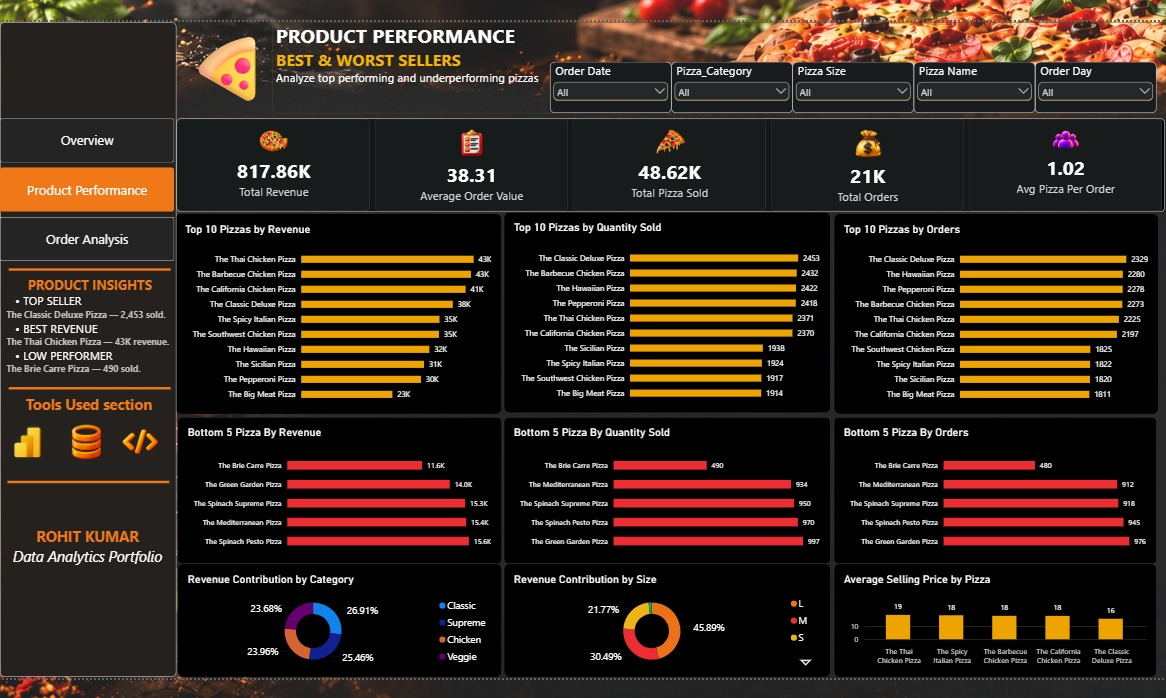

What the dashboard file says about the page in this screenshot:
{"tool":"powerbi","page":{"name":"Product Performance","canvas":[1920,1080],"ordinal":1},"visuals":[{"type":"cardVisual","fields":{"Data":["Sum(public pizza_data.total_price)","public pizza_data.Average Order Value","CountNonNull(public pizza_data.quantity)","public pizza_data.Total Orders","public pizza_data.Avg Pizza Per Order"]},"box":[290.2,158.5,1628.1,154.4],"z":0},{"type":"textbox","box":[448.7,0,1471.7,150.3],"z":1000},{"type":"clusteredBarChart","title":"Bottom 5 Pizza By Revenue","fields":{"Category":["public pizza_data.pizza_name"],"Y":["Sum(public pizza_data.total_price)"]},"box":[292,650,534,242],"z":2000},{"type":"clusteredBarChart","title":"Top 10 Pizzas by Revenue","fields":{"Category":["public pizza_data.pizza_name"],"Y":["Sum(public pizza_data.total_price)"]},"box":[288.2,314.9,538,331.4],"z":3000},{"type":"slicer","fields":{"Values":["public pizza_data.Order Day"]},"box":[1704.3,65.9,200,84.4],"z":4000},{"type":"slicer","fields":{"Values":["public pizza_data.pizza_name"]},"box":[1504.6,65.9,200,84],"z":5000},{"type":"slicer","fields":{"Values":["public pizza_data.pizza_size"]},"box":[1305,65.9,200,84],"z":6000},{"type":"slicer","fields":{"Values":["public pizza_data.pizza_category"]},"box":[1105.3,65.9,200,84],"z":7000},{"type":"slicer","title":"Order Date","fields":{"Values":["public pizza_data.order_date"]},"box":[905.7,65.9,200,84.4],"z":8000},{"type":"textbox","box":[290.2,0,158.5,146.1],"z":9000},{"type":"textbox","box":[0,0,290.2,1078.6],"z":10000},{"type":"clusteredBarChart","title":"Top 10 Pizzas by Quantity Sold","fields":{"Category":["public pizza_data.pizza_name"],"Y":["Sum(public pizza_data.quantity)"]},"box":[830,313,538,331.4],"z":11000},{"type":"clusteredBarChart","title":"Top 10 Pizzas by Orders","fields":{"Category":["public pizza_data.pizza_name"],"Y":["public pizza_data.Total Orders"]},"box":[1372.5,315,535,331.4],"z":12000},{"type":"clusteredBarChart","title":"Bottom 5 Pizza By Quantity Sold","fields":{"Category":["public pizza_data.pizza_name"],"Y":["Sum(public pizza_data.quantity)"]},"box":[830,650,538,242],"z":13000},{"type":"clusteredBarChart","title":"Bottom 5 Pizza By Orders","fields":{"Category":["public pizza_data.pizza_name"],"Y":["public pizza_data.Total Orders"]},"box":[1372,650,532,242],"z":14000},{"type":"donutChart","title":"Revenue Contribution by Category","fields":{"Category":["public pizza_data.pizza_category"],"Y":["Sum(public pizza_data.total_price)"]},"box":[292,892,534,188],"z":15000},{"type":"donutChart","title":"Revenue Contribution by Size","fields":{"Category":["public pizza_data.pizza_size"],"Y":["Sum(public pizza_data.total_price)"]},"box":[830,892,538,188],"z":16000},{"type":"columnChart","title":"Average Selling Price by Pizza","fields":{"Category":["public pizza_data.pizza_name"],"Y":["Avg(public pizza_data.total_price)"]},"box":[1372,892,532,188],"z":17000},{"type":"pageNavigator","box":[0,158.5,287.5,237.5],"z":18000},{"type":"shape","box":[15,360,266.8,94.7],"z":19000},{"type":"textbox","box":[0,756.8,288.2,323.2],"z":20000},{"type":"textbox","box":[0,595,292.5,162.5],"z":21000},{"type":"shape","box":[15,555.9,266.8,94.7],"z":22000},{"type":"shape","box":[12.8,709.8,266.8,94.7],"z":23000},{"type":"image","box":[12.8,643.6,66,94.1],"z":24000},{"type":"image","box":[109,643.6,66,94.1],"z":25000},{"type":"image","box":[196.7,643.6,66,94.1],"z":26000},{"type":"textbox","box":[10.7,416.9,275.8,186],"z":27000}]}

Visuals, with their boxes on the page's 1920x1080 design canvas (x1, y1, x2, y2). These are canvas units, not pixel positions in the 1166x698 screenshot, which may show the page scaled, cropped or inside an application window:
cardVisual - Sum(public pizza_data.total_price) x public pizza_data.Average Order Value: left=290, top=158, right=1918, bottom=313
textbox: left=449, top=0, right=1920, bottom=150
"Bottom 5 Pizza By Revenue" clusteredBarChart: left=292, top=650, right=826, bottom=892
"Top 10 Pizzas by Revenue" clusteredBarChart: left=288, top=315, right=826, bottom=646
slicer - public pizza_data.Order Day: left=1704, top=66, right=1904, bottom=150
slicer - public pizza_data.pizza_name: left=1505, top=66, right=1705, bottom=150
slicer - public pizza_data.pizza_size: left=1305, top=66, right=1505, bottom=150
slicer - public pizza_data.pizza_category: left=1105, top=66, right=1305, bottom=150
"Order Date" slicer: left=906, top=66, right=1106, bottom=150
textbox: left=290, top=0, right=449, bottom=146
textbox: left=0, top=0, right=290, bottom=1079
"Top 10 Pizzas by Quantity Sold" clusteredBarChart: left=830, top=313, right=1368, bottom=644
"Top 10 Pizzas by Orders" clusteredBarChart: left=1372, top=315, right=1908, bottom=646
"Bottom 5 Pizza By Quantity Sold" clusteredBarChart: left=830, top=650, right=1368, bottom=892
"Bottom 5 Pizza By Orders" clusteredBarChart: left=1372, top=650, right=1904, bottom=892
"Revenue Contribution by Category" donutChart: left=292, top=892, right=826, bottom=1080
"Revenue Contribution by Size" donutChart: left=830, top=892, right=1368, bottom=1080
"Average Selling Price by Pizza" columnChart: left=1372, top=892, right=1904, bottom=1080
pageNavigator: left=0, top=158, right=288, bottom=396
shape: left=15, top=360, right=282, bottom=455
textbox: left=0, top=757, right=288, bottom=1080
textbox: left=0, top=595, right=292, bottom=758
shape: left=15, top=556, right=282, bottom=651
shape: left=13, top=710, right=280, bottom=804
image: left=13, top=644, right=79, bottom=738
image: left=109, top=644, right=175, bottom=738
image: left=197, top=644, right=263, bottom=738
textbox: left=11, top=417, right=286, bottom=603
